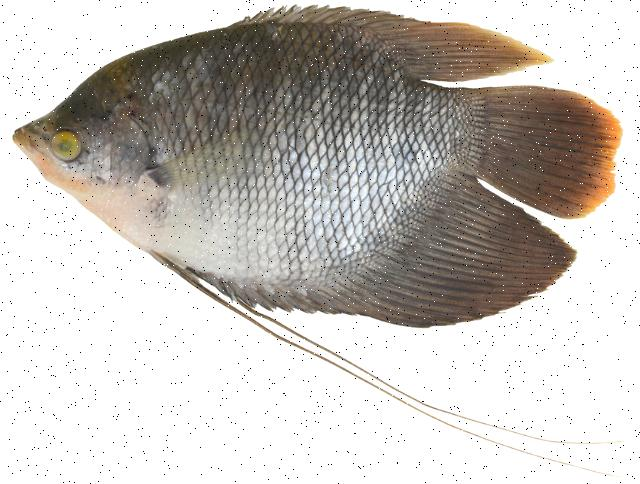Mulut: (0, 102, 64, 190)
Sirip Dada: (116, 103, 276, 234)
Sirip Ekor: (465, 72, 635, 233)
Sirip Punggung: (227, 0, 569, 94)
